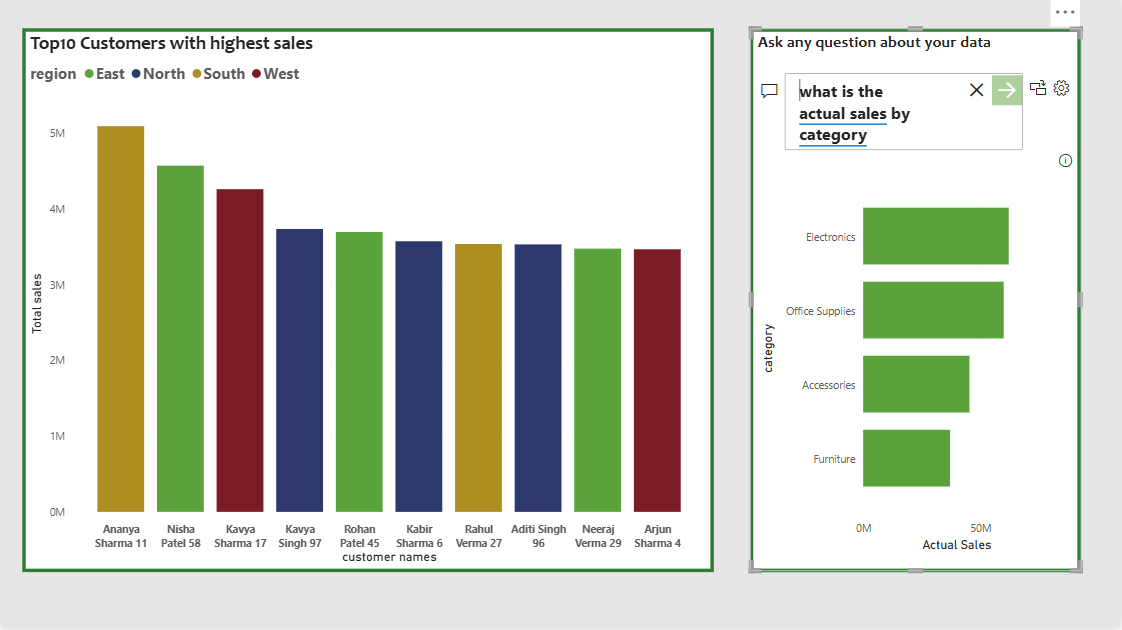

What the dashboard file says about the page in this screenshot:
{"tool":"powerbi","page":{"name":"Page 4","canvas":[1280,720],"ordinal":3},"visuals":[{"type":"columnChart","title":"Top10 Customers with highest sales","fields":{"Category":["customers.customer_name"],"Y":["Sum(order_details.total sales per order)"],"Series":["customers.region"]},"box":[24.3,35.7,790,621.4],"z":0},{"type":"qnaVisual","title":"Ask any question about your data","box":[855.7,35.7,378.6,621.4],"z":1000}]}

Visuals, with their boxes in screenshot pixels (x1, y1, x2, y2), scaled from the page's 1280x720 canvas onto the 1122x630 screenshot:
"Top10 Customers with highest sales" columnChart: rect(21, 31, 714, 575)
"Ask any question about your data" qnaVisual: rect(750, 31, 1082, 575)
